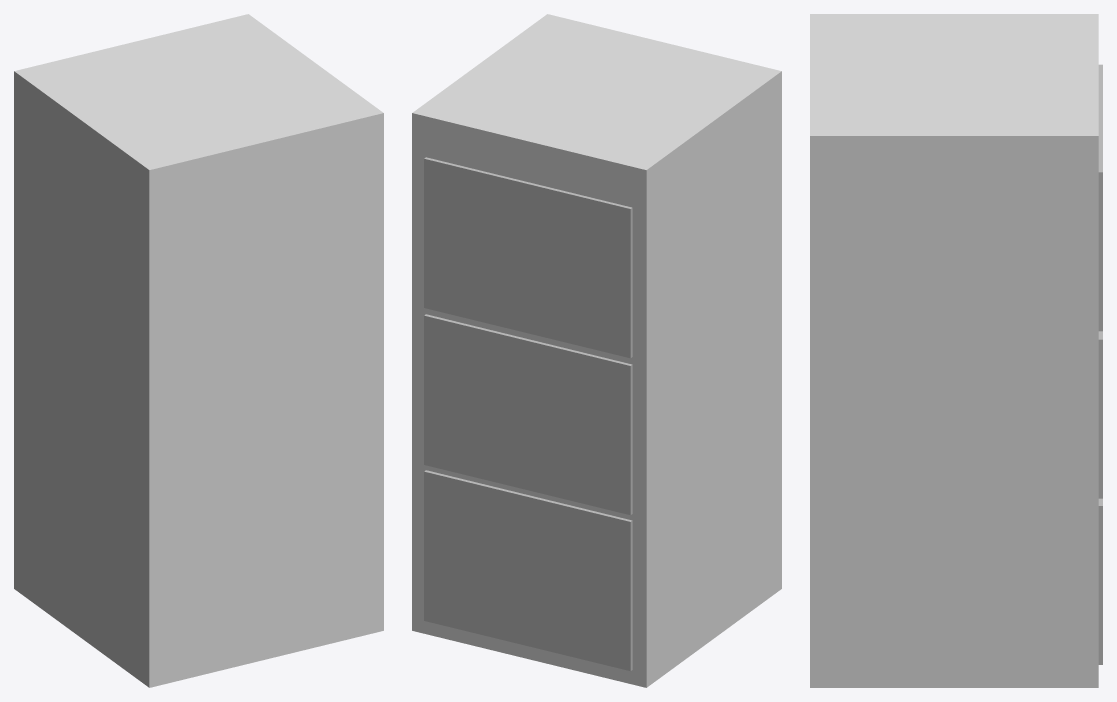
File: prop_cabinet.fbx
The picture shows the model from 3 angles, left to right: view 1: azimuth 30°, elevation 25°; view 2: azimuth 150°, elevation 25°; view 3: azimuth 270°, elevation 25°; orthographic projection. The views are drawn at different scales.
Parts seen in each view (by area): view 1: pCube34; view 2: pCube34; view 3: pCube34.
Boxes of the visible parts, <box> form: pCube34: <box>14,14,383,687</box>; pCube34: <box>412,14,781,687</box>; pCube34: <box>810,14,1102,687</box>.
Size of the model in its own units: 1.88 by 3.97 by 1.91.
